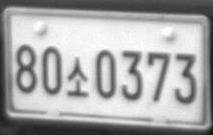0: (94, 48, 116, 99), (40, 45, 62, 95)
3: (173, 52, 197, 104), (120, 50, 142, 101)
7: (146, 51, 170, 103)
8: (15, 43, 37, 93)
소: (66, 56, 89, 97)
